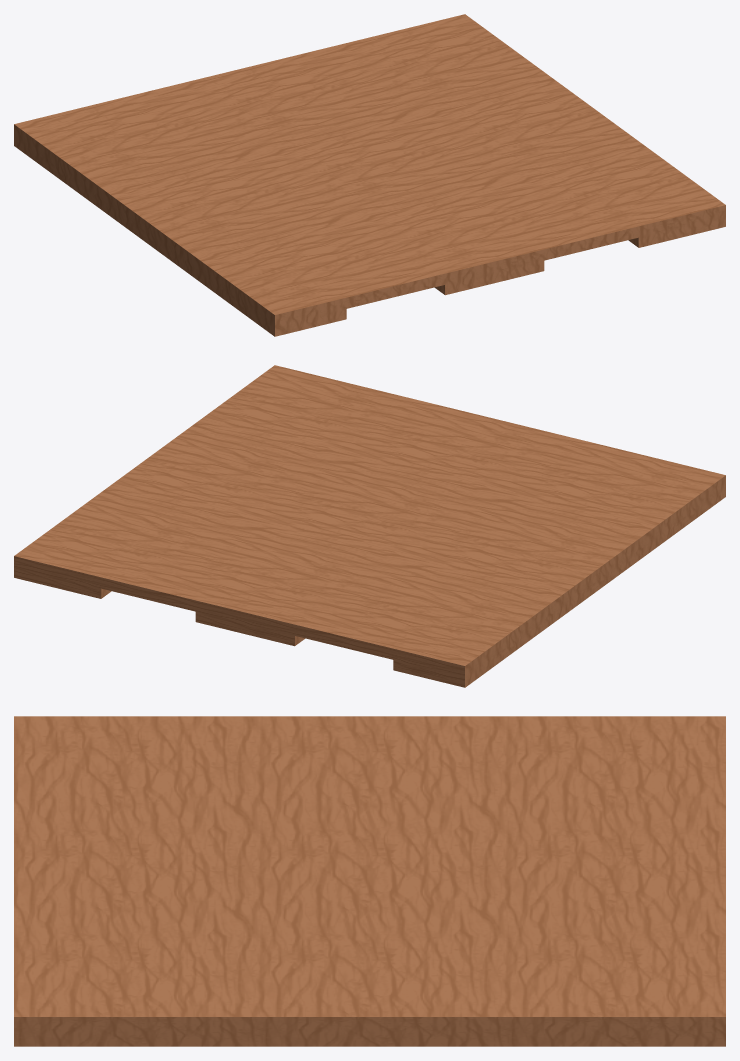
The model's file is BasicFloor.fbx.
The picture shows the model from 3 angles, top to bottom: view 1: azimuth 30°, elevation 25°; view 2: azimuth 150°, elevation 25°; view 3: azimuth 270°, elevation 25°; orthographic projection. The views are drawn at different scales.
Parts seen in each view (by area): view 1: BasicFloor; view 2: BasicFloor; view 3: BasicFloor.
Boxes of the visible parts, left/top/right/bottom form: BasicFloor: left=14, top=14, right=725, bottom=336; BasicFloor: left=14, top=365, right=725, bottom=687; BasicFloor: left=14, top=716, right=725, bottom=1046.
Size of the model in its own units: 329 by 15.12 by 329.
